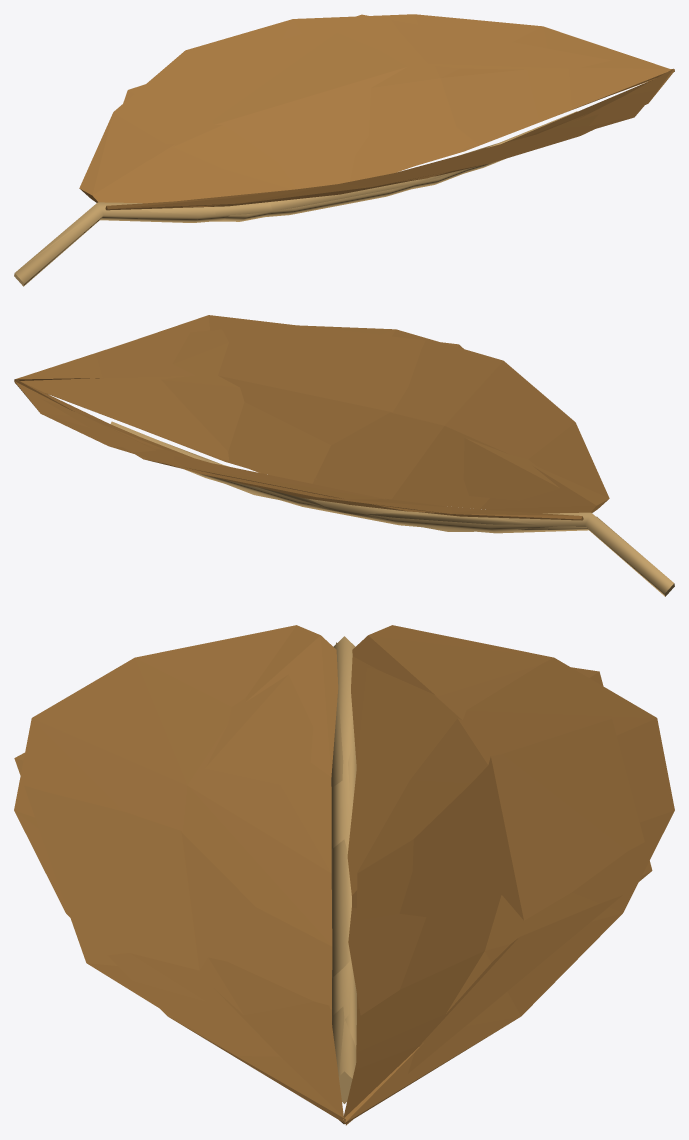
Rendered from fallen_leaf_dry.glb.
3 views of the same model, one above another, from view 1: azimuth 30°, elevation 25°; view 2: azimuth 150°, elevation 25°; view 3: azimuth 270°, elevation 25° (orthographic). The views are drawn at different scales.
Visible parts, largest first — view 1: body__far, body_nl, stem; view 2: body_nl, body__far, stem; view 3: body_nl, body__far, stem.
Boxes of the visible parts, x1,y1,x2,y2 form: body__far: (14,14,657,286); body_nl: (79,14,674,210); stem: (15,111,577,286); body_nl: (14,325,609,520); body__far: (15,315,674,596); stem: (110,421,673,596); body_nl: (14,625,674,1124); body__far: (14,642,652,1125); stem: (331,636,356,1078).
Size of the model in its own units: 7.45 by 1.14 by 3.86.
